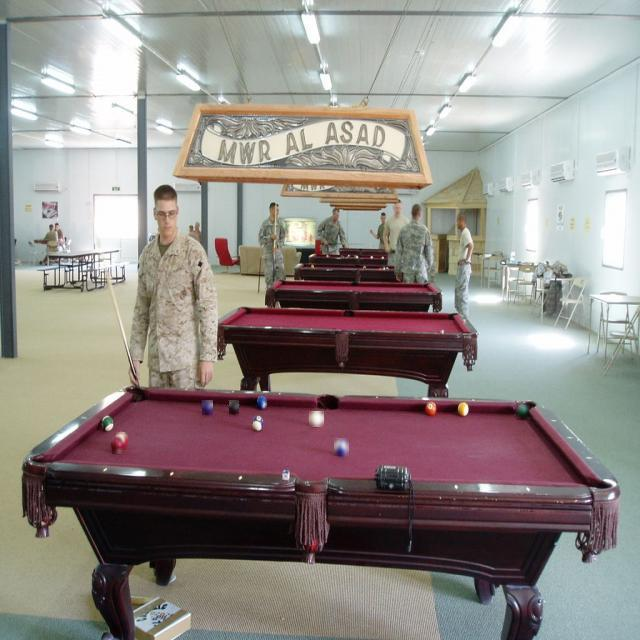Ball: (334, 438, 349, 456), (251, 415, 265, 433), (309, 411, 324, 427), (516, 403, 529, 420), (425, 401, 438, 417), (112, 437, 124, 454), (102, 415, 113, 433), (116, 432, 128, 448), (202, 400, 213, 415), (458, 402, 469, 416), (229, 400, 239, 414), (258, 396, 267, 410)
Billiard table: (22, 391, 618, 501)
